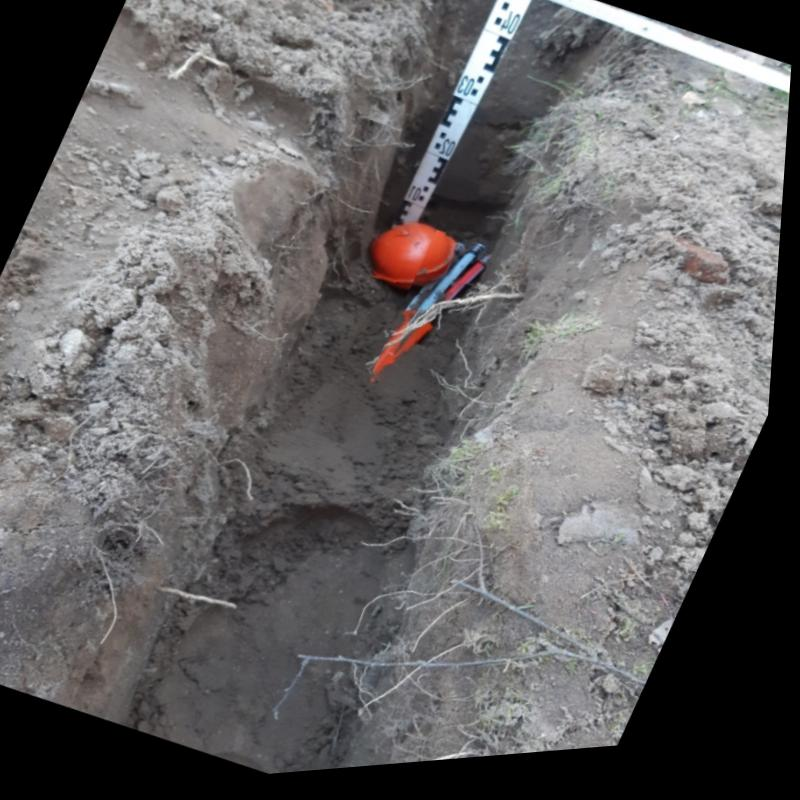Kugelmarker: (372, 233, 457, 298)
Orang-Speednetrohrchen: (377, 251, 498, 384)
